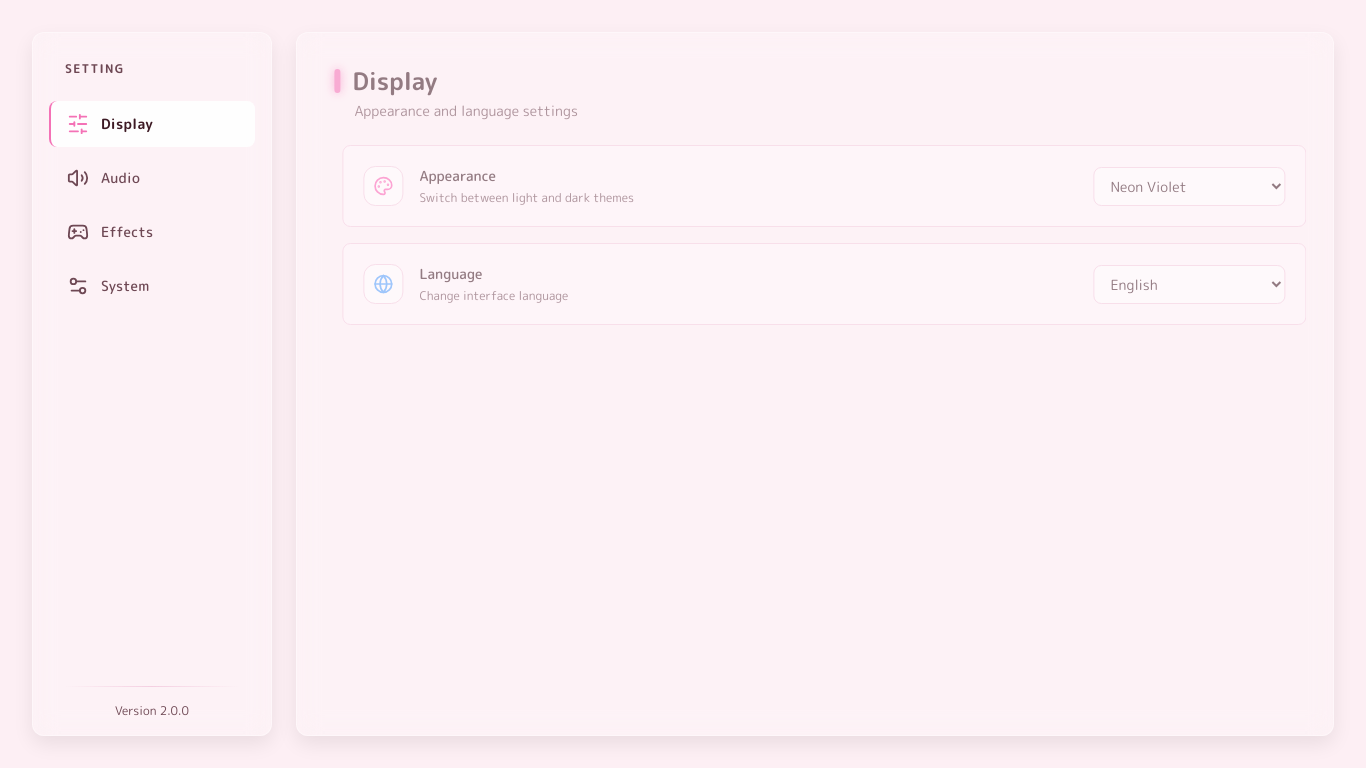
Test: SettingsPage › shows Clear Data and Export buttons on System tab
Click the button "System" at (152, 286), box [49,263,255,309]
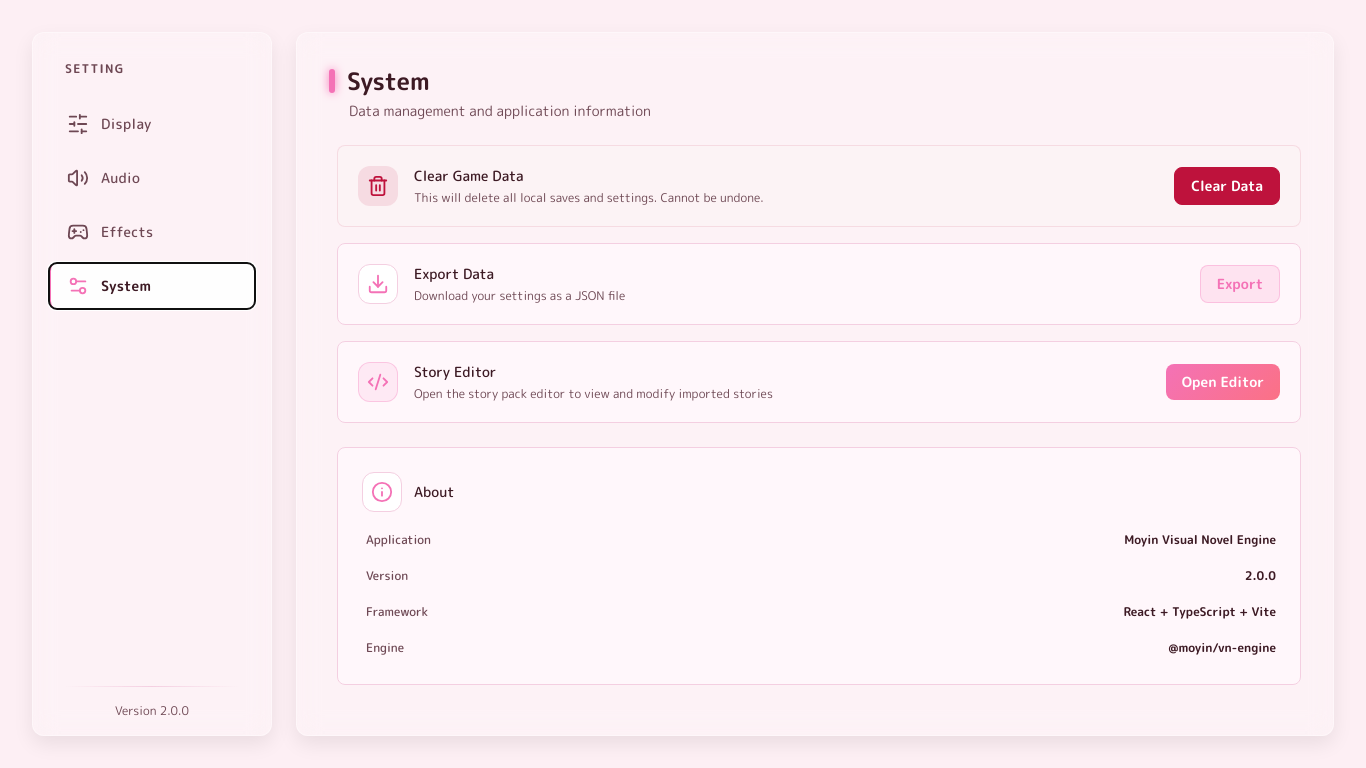
Now the button "Clear Data" is shown, box [1174,167,1280,205]
Now the button "Export" is shown, box [1200,265,1280,303]
